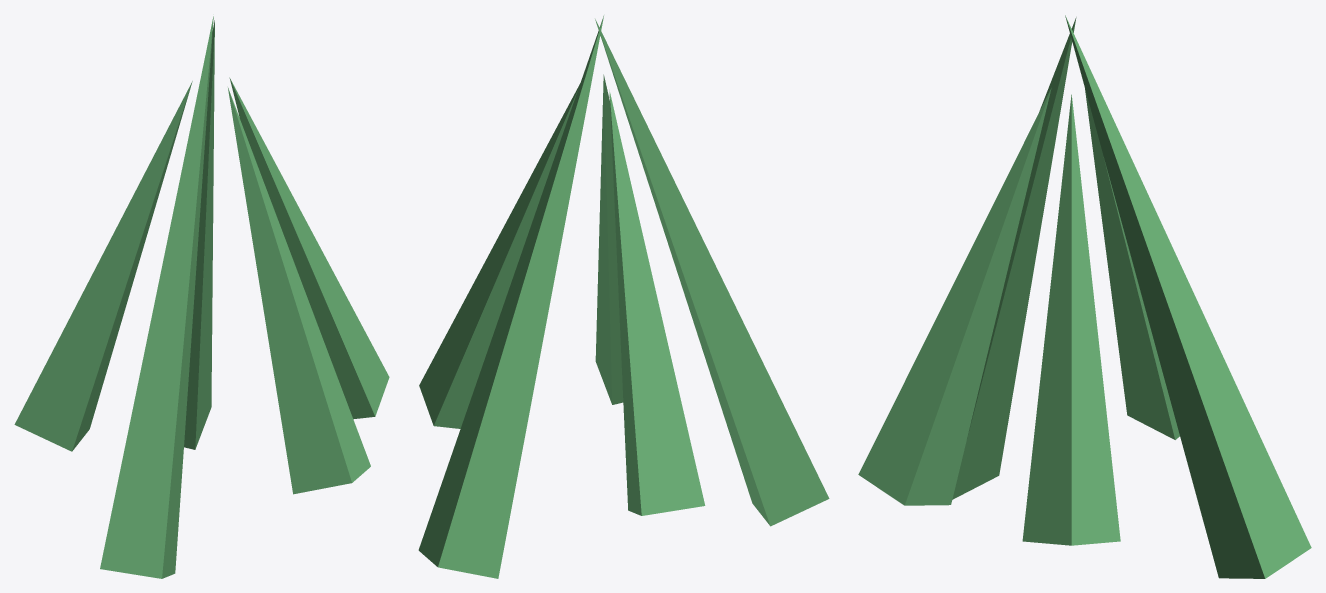
Rendered from grass_tuft.glb.
3 renders of one model, left to right at view 1: azimuth 30°, elevation 25°; view 2: azimuth 150°, elevation 25°; view 3: azimuth 270°, elevation 25°, orthographic. The views are drawn at different scales.
Parts seen in each view (by area): view 1: Grass3, Grass4, Grass2, Grass0, Grass1; view 2: Grass1, Grass3, Grass2, Grass0, Grass4; view 3: Grass1, Grass0, Grass4, Grass3, Grass2.
Boxes of the visible parts, left/top/right/bottom form: Grass3: left=100, top=16, right=213, bottom=578; Grass4: left=228, top=88, right=370, bottom=494; Grass2: left=14, top=81, right=192, bottom=451; Grass0: left=229, top=77, right=389, bottom=419; Grass1: left=184, top=20, right=214, bottom=449; Grass1: left=418, top=16, right=603, bottom=578; Grass3: left=595, top=19, right=829, bottom=526; Grass2: left=609, top=91, right=705, bottom=515; Grass0: left=419, top=83, right=580, bottom=428; Grass4: left=595, top=74, right=623, bottom=404; Grass1: left=1065, top=15, right=1311, bottom=578; Grass0: left=1022, top=94, right=1120, bottom=545; Grass4: left=858, top=88, right=1051, bottom=505; Grass3: left=952, top=17, right=1076, bottom=499; Grass2: left=1085, top=89, right=1179, bottom=439.
Bounding box in the file's own units: 0.5279 × 0.7243 × 0.5541.
